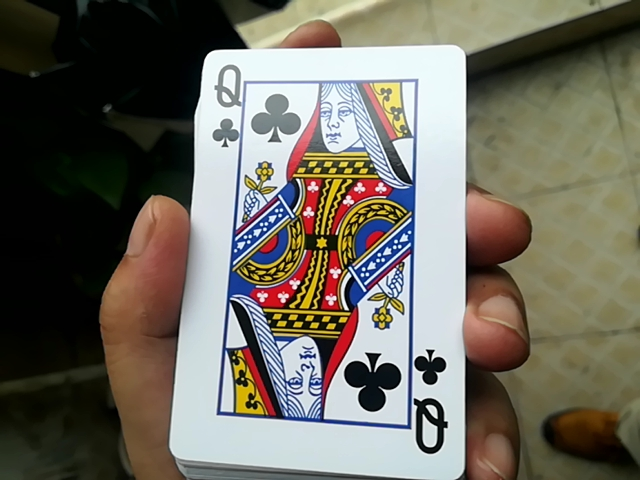mh q: (158, 47, 465, 480)
